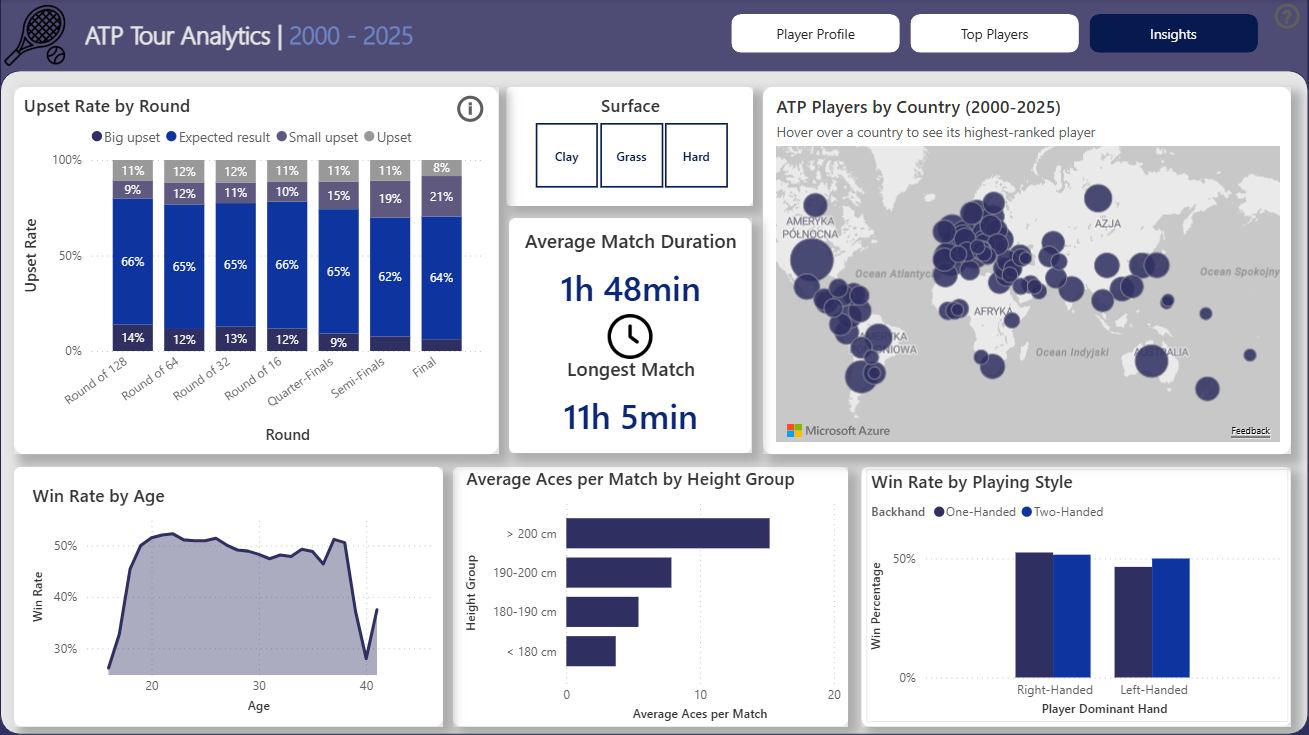

The dashboard page shown, as its layout file describes it:
{"tool":"powerbi","page":{"name":"Insights","canvas":[1280,720],"ordinal":2},"visuals":[{"type":"shape","box":[0,0,1280,102.5],"z":0},{"type":"shape","box":[12.9,85.7,474.3,360],"z":0,"group":"g2"},{"type":"shape","box":[745.7,85.7,517.1,360],"z":0,"group":"g5"},{"type":"azureMap","title":"ATP Players by Country (2000-2025)","fields":{"Category":["gold dim_players.country_code"],"Size":["Count(gold fact_match_player_stats.player_id)"]},"box":[754,93.5,502.9,345.2],"z":0,"group":"g6"},{"type":"shape","box":[497.7,214,237.2,230.6],"z":0,"group":"g7"},{"type":"shape","box":[12.9,457.1,420,254.3],"z":0,"group":"g3"},{"type":"shape","box":[442.9,457.1,387.3,254.3],"z":0,"group":"g1"},{"type":"shape","box":[842.9,457.1,420,254.3],"z":0,"group":"g4"},{"type":"shape","box":[0,70,1280,650],"z":1000},{"type":"cardVisual","title":"Longest Match","fields":{"Data":["_Measures.Longest_Match"]},"box":[507.1,348.5,219.8,93.1],"z":1000,"group":"g7"},{"type":"barChart","title":"Average Aces per Match by Height Group","fields":{"Category":["gold dim_players.Height Group"],"Y":["_Measures.Avg Aces per Match"]},"box":[451.3,457.5,376.6,254.3],"z":1000,"group":"g1"},{"type":"shape","box":[495.7,85.7,241.4,117.1],"z":2000},{"type":"hundredPercentStackedColumnChart","title":"Upset Rate by Round","fields":{"Category":["gold fact_match.round_name"],"Series":["gold fact_match.upset_category"],"Y":["CountNonNull(gold fact_match.match_id)"]},"box":[18.3,91.4,459.7,348.6],"z":2000,"group":"g2"},{"type":"cardVisual","title":"Average Match Duration","fields":{"Data":["_Measures.Avg_Match_Duration"]},"box":[507.2,223.3,219.1,94.3],"z":2000,"group":"g7"},{"type":"slicer","title":"Surface","fields":{"Values":["gold fact_match.surface"]},"box":[497.1,91.4,238.3,100],"z":3000},{"type":"pageNavigator","box":[715.7,14.3,515.7,38.6],"z":4000},{"type":"group","id":"g1","title":"Grupa 1","box":[442.9,457.1,387.1,254.3],"z":5000},{"type":"group","id":"g2","title":"Grupa 2","box":[12.9,85.7,474.3,360],"z":6000},{"type":"group","id":"g3","title":"Grupa 3","box":[12.9,457.1,420,254.3],"z":7000},{"type":"stackedAreaChart","title":"Win Rate by Age","fields":{"Category":["gold fact_match_player_stats.age_years"],"Y":["_Measures.Win_Rate"]},"box":[26.5,472.6,399.1,230.3],"z":7001,"group":"g3"},{"type":"clusteredColumnChart","title":"Win Rate by Playing Style","fields":{"Category":["gold dim_players.hand"],"Y":["_Measures.Win_Rate"],"Series":["gold dim_players.backhand"]},"box":[847.2,460,412.9,247.1],"z":7006,"group":"g4"},{"type":"cardVisual","fields":{"Data":["_Measures.Avg_Match_Duration"]},"box":[938.6,460,227.1,171.4],"z":8000},{"type":"group","id":"g4","title":"Grupa 5","box":[842.9,457.1,420,254.3],"z":9000},{"type":"group","id":"g5","title":"Grupa 6","box":[745.7,85.7,517.1,360],"z":10000},{"type":"group","id":"g6","title":"Grupa 4","box":[754,93.5,502.9,345.2],"z":11000,"group":"g5"},{"type":"group","id":"g7","title":"Grupa 7","box":[497.7,214,237.2,230.6],"z":11000},{"type":"image","box":[0,0,68.8,70],"z":12000},{"type":"textbox","box":[78.8,13.8,460,62.5],"z":13000},{"type":"actionButton","box":[442.4,86.3,34.8,41.7],"z":14000},{"type":"image","box":[577.9,307.7,76.3,44],"z":15000},{"type":"actionButton","box":[1242.1,0,37.9,33.6],"z":16000}]}

Visuals, with their boxes in screenshot pixels (x1, y1, x2, y2), scaled from the page's 1280x720 canvas onto the 1309x735 screenshot:
shape: x1=0, y1=0, x2=1308, y2=105
shape: x1=13, y1=87, x2=498, y2=455
shape: x1=763, y1=87, x2=1291, y2=455
"ATP Players by Country (2000-2025)" azureMap: x1=771, y1=95, x2=1285, y2=448
shape: x1=509, y1=218, x2=752, y2=454
shape: x1=13, y1=467, x2=443, y2=726
shape: x1=453, y1=467, x2=849, y2=726
shape: x1=862, y1=467, x2=1292, y2=726
shape: x1=0, y1=71, x2=1308, y2=734
"Longest Match" cardVisual: x1=519, y1=356, x2=743, y2=451
"Average Aces per Match by Height Group" barChart: x1=462, y1=467, x2=847, y2=727
shape: x1=507, y1=87, x2=754, y2=207
"Upset Rate by Round" hundredPercentStackedColumnChart: x1=19, y1=93, x2=489, y2=449
"Average Match Duration" cardVisual: x1=519, y1=228, x2=743, y2=324
"Surface" slicer: x1=508, y1=93, x2=752, y2=195
pageNavigator: x1=732, y1=15, x2=1259, y2=54
"Grupa 1" group: x1=453, y1=467, x2=849, y2=726
"Grupa 2" group: x1=13, y1=87, x2=498, y2=455
"Grupa 3" group: x1=13, y1=467, x2=443, y2=726
"Win Rate by Age" stackedAreaChart: x1=27, y1=482, x2=435, y2=718
"Win Rate by Playing Style" clusteredColumnChart: x1=866, y1=470, x2=1289, y2=722
cardVisual - _Measures.Avg_Match_Duration: x1=960, y1=470, x2=1192, y2=645
"Grupa 5" group: x1=862, y1=467, x2=1292, y2=726
"Grupa 6" group: x1=763, y1=87, x2=1291, y2=455
"Grupa 4" group: x1=771, y1=95, x2=1285, y2=448
"Grupa 7" group: x1=509, y1=218, x2=752, y2=454
image: x1=0, y1=0, x2=70, y2=71
textbox: x1=81, y1=14, x2=551, y2=78
actionButton: x1=452, y1=88, x2=488, y2=131
image: x1=591, y1=314, x2=669, y2=359
actionButton: x1=1270, y1=0, x2=1308, y2=34
